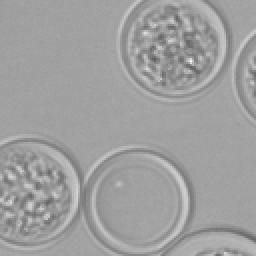picoshell: (82, 146, 192, 254), (116, 0, 228, 102), (0, 136, 80, 250), (162, 228, 256, 256), (232, 30, 254, 124)
